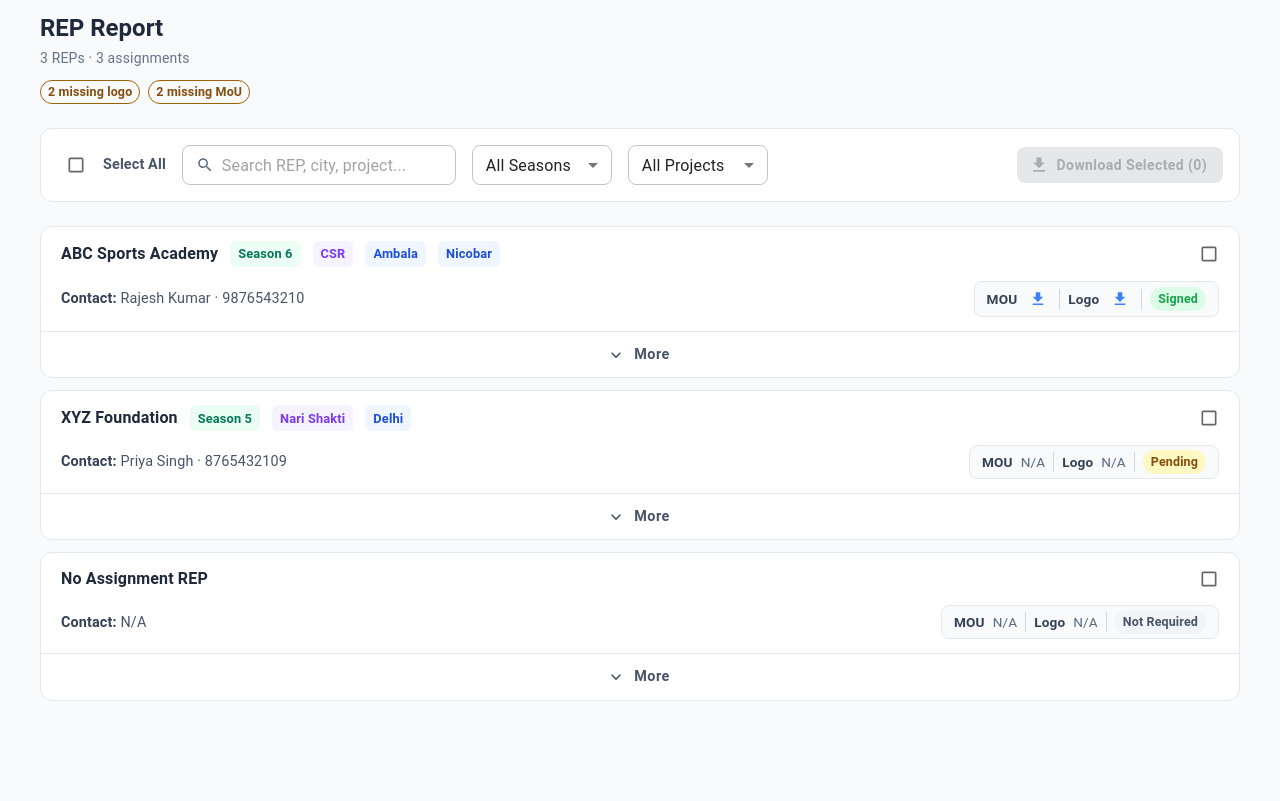
SocialMediaReport › clicking expanded card collapses it
Expected: the text "ABC Sports Academy" is shown, [61,242,218,266]
Click the button "More" below "Rajesh Kumar". click: [640, 354]
box: [41,331,1239,377]
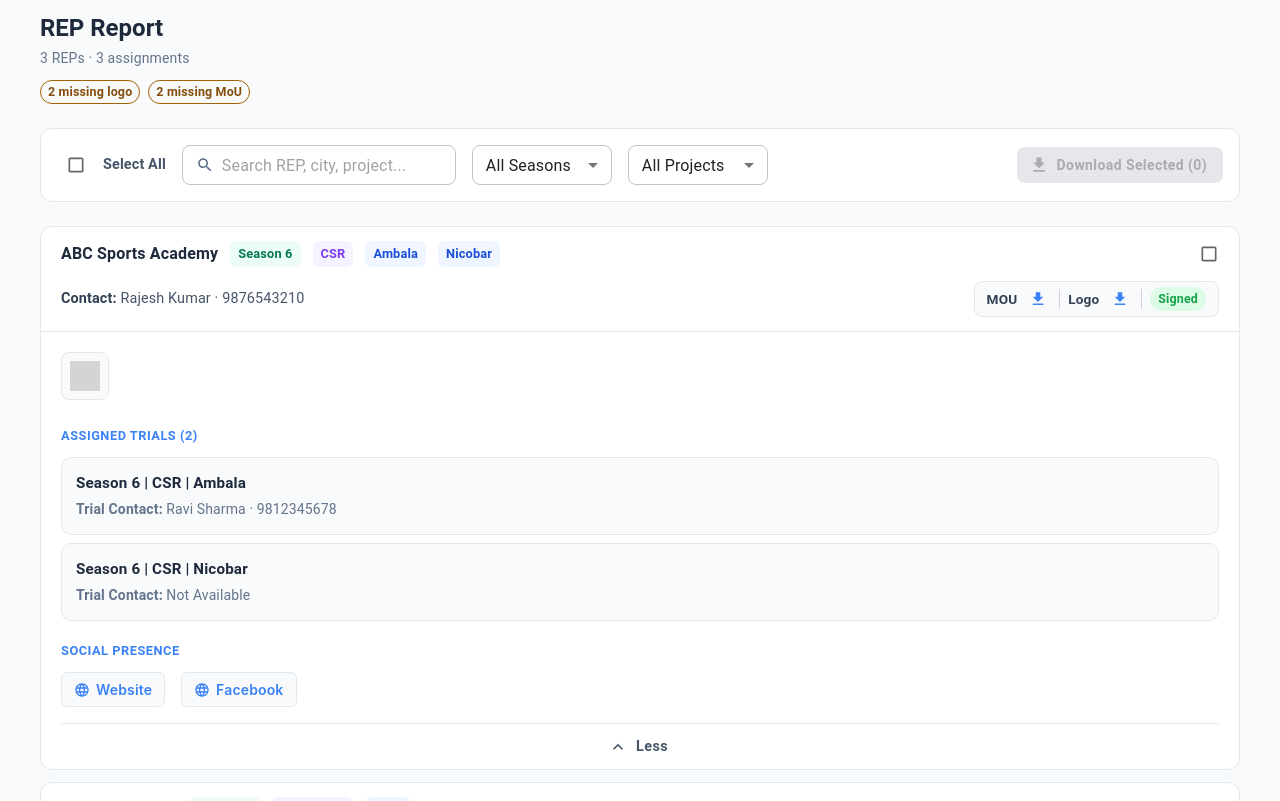
Expected: the text "ABC Sports Academy" is shown, [61,244,218,263]
Now the text "Trial Contact: Ravi Sharma · 9812345678" is shown, box [76,501,337,517]
Click the button "Less". click: [640, 746]
box: [61,723,1219,769]
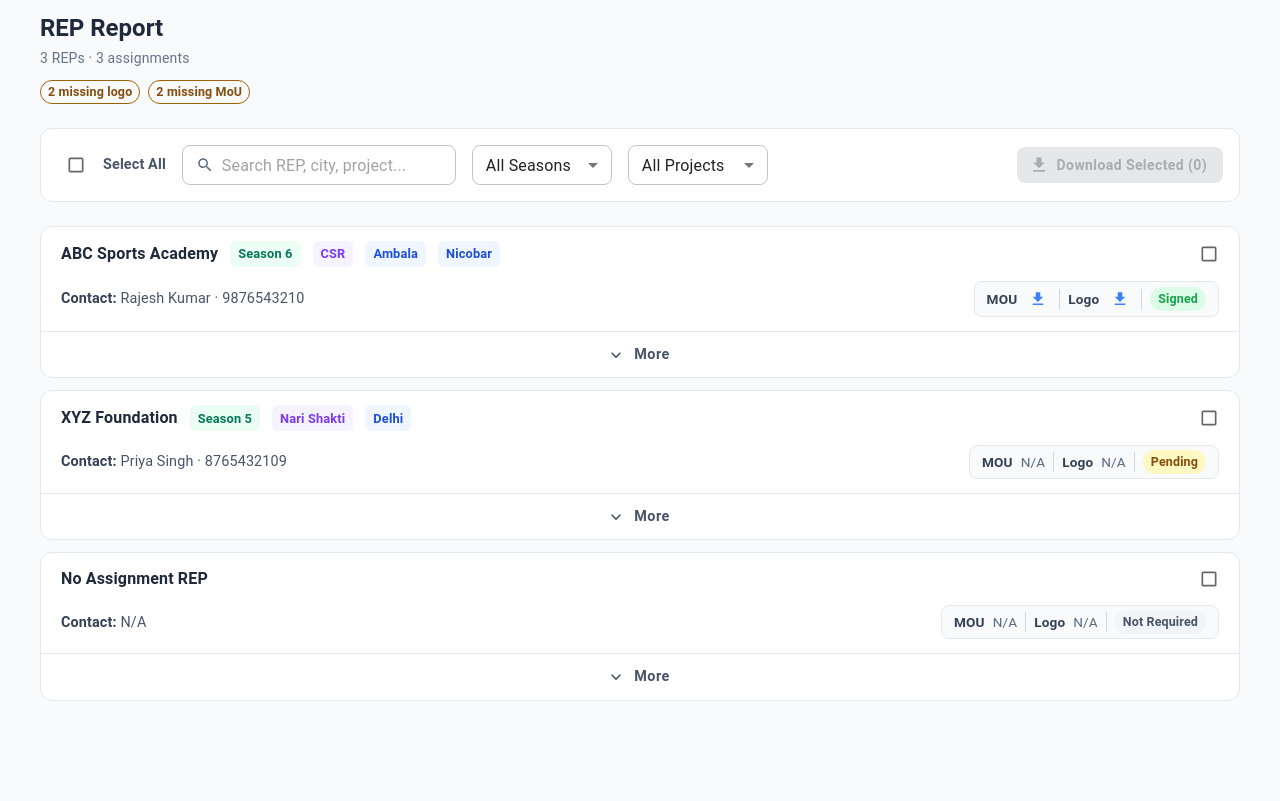
Now the text "Ravi Sharma" is gone
